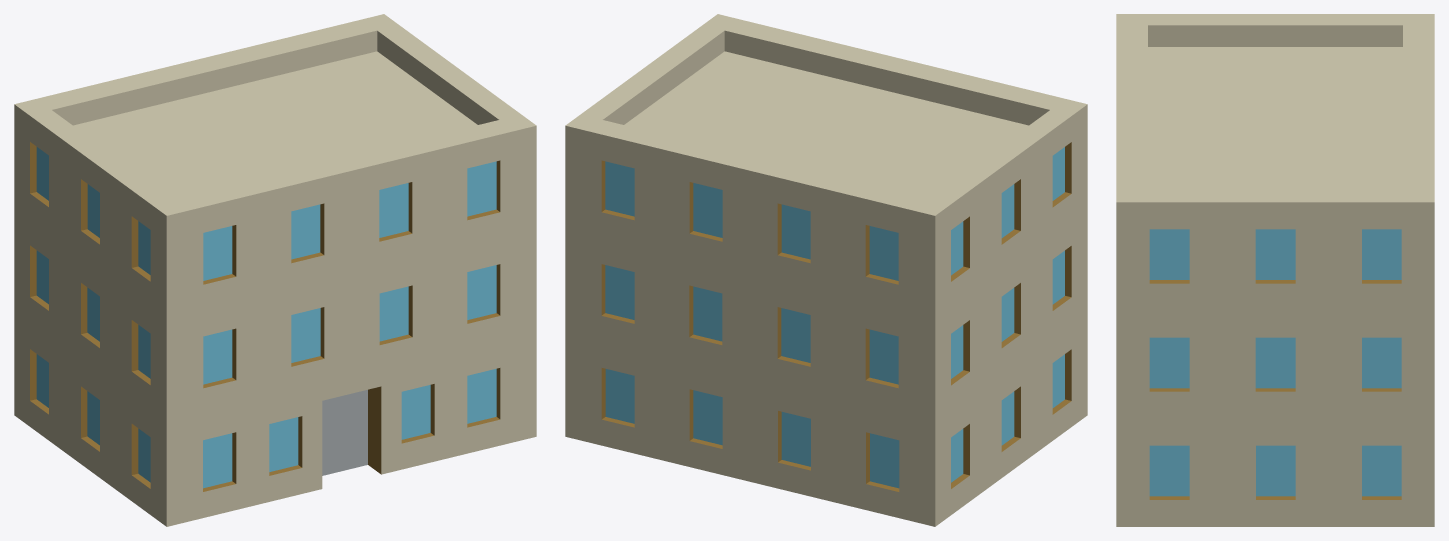
The model's file is Building_01.fbx.
3 views of the same model, side by side, from view 1: azimuth 30°, elevation 25°; view 2: azimuth 150°, elevation 25°; view 3: azimuth 270°, elevation 25° (orthographic). The views are drawn at different scales.
Parts seen in each view (by area): view 1: Building_01_s03, Building_01_s02, Building_01_s01; view 2: Building_01_s03, Building_01_s01, Building_01_s02; view 3: Building_01_s03, Building_01_s01, Building_01_s02.
Boxes of the visible parts, <box> form: Building_01_s03: <box>14,14,536,319</box>; Building_01_s02: <box>14,208,536,422</box>; Building_01_s01: <box>14,312,536,526</box>; Building_01_s03: <box>565,14,1087,319</box>; Building_01_s01: <box>565,312,1087,526</box>; Building_01_s02: <box>565,208,1087,422</box>; Building_01_s03: <box>1116,14,1434,310</box>; Building_01_s01: <box>1116,418,1434,526</box>; Building_01_s02: <box>1116,310,1434,418</box>.
Bounding box in the file's own units: 1120 × 900 × 800.
